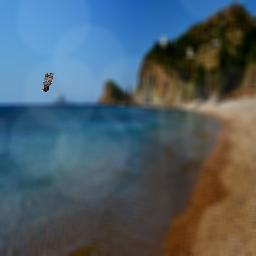Crow: (41, 73, 54, 92)
